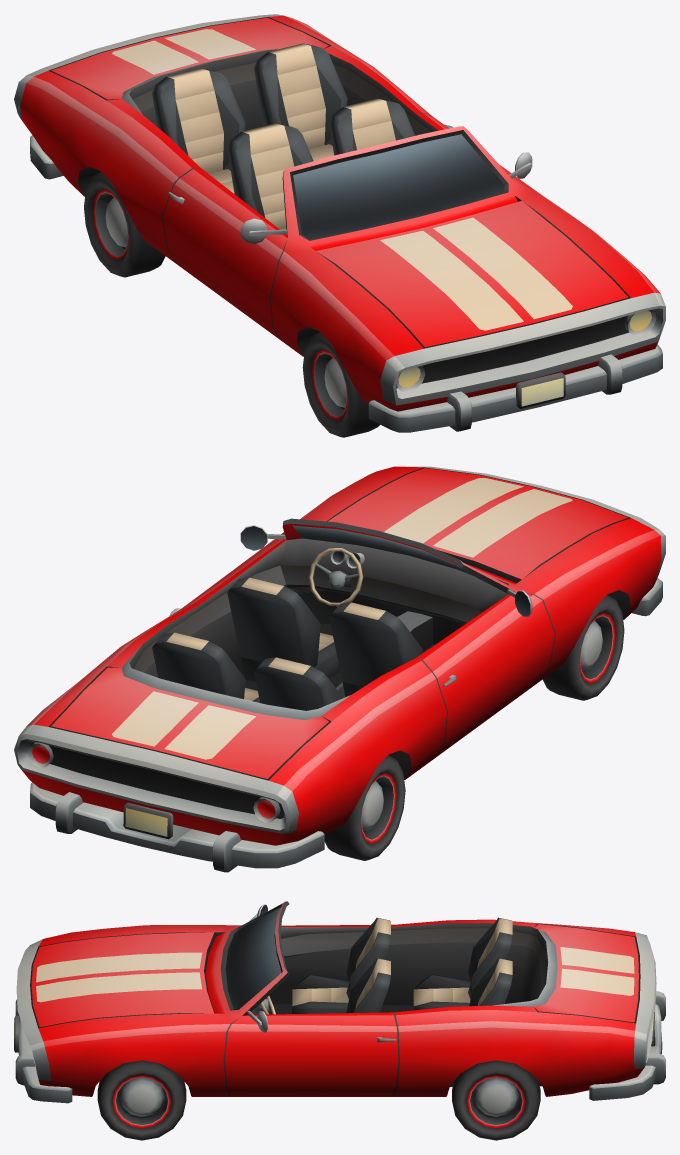
The model's file is Car_23B.fbx.
3 renders of one model, top to bottom at view 1: azimuth 30°, elevation 25°; view 2: azimuth 150°, elevation 25°; view 3: azimuth 270°, elevation 25°, orthographic. The views are drawn at different scales.
Parts seen in each view (by area): view 1: Car_23B, Car_23B_Seat.R.L, Car_23B_Seat.R.R, Car_23B_Seat.F.R, Wheel_23B_R.R, Wheel_23B_F.R, Car_23B_Seat.F.L; view 2: Car_23B, Car_23B_Seat.F.L, Car_23B_Seat.F.R, Wheel_23B_R.R, Wheel_23B_F.R, Car_23B_Seat.R.L, Car_23B_Seat.R.R, Car_23B_Steering_Wheel; view 3: Car_23B, Wheel_23B_F.L, Wheel_23B_R.L, Car_23B_Seat.F.R, Car_23B_Seat.R.R, Car_23B_Seat.F.L, Car_23B_Seat.R.L.
Boxes of the visible parts, x1,y1,x2,y2 form: Car_23B: (14, 14, 665, 432); Car_23B_Seat.R.L: (254, 43, 347, 160); Car_23B_Seat.R.R: (152, 68, 245, 193); Car_23B_Seat.F.R: (227, 123, 313, 229); Wheel_23B_R.R: (84, 172, 165, 277); Wheel_23B_F.R: (302, 332, 379, 437); Car_23B_Seat.F.L: (329, 98, 415, 155); Car_23B: (14, 466, 665, 872); Car_23B_Seat.F.L: (227, 577, 339, 682); Car_23B_Seat.F.R: (329, 602, 422, 697); Wheel_23B_R.R: (324, 755, 405, 860); Wheel_23B_F.R: (542, 595, 624, 700); Car_23B_Seat.R.L: (152, 632, 260, 702); Car_23B_Seat.R.R: (254, 657, 342, 710); Car_23B_Steering_Wheel: (308, 548, 363, 606); Car_23B: (14, 901, 665, 1103); Wheel_23B_F.L: (97, 1060, 186, 1140); Wheel_23B_R.L: (452, 1060, 540, 1140); Car_23B_Seat.F.R: (292, 917, 390, 1013); Car_23B_Seat.R.R: (413, 917, 512, 1010); Car_23B_Seat.F.L: (346, 958, 390, 1013); Car_23B_Seat.R.L: (469, 958, 512, 1006).
Size of the model in its own units: 257 by 165 by 617.
